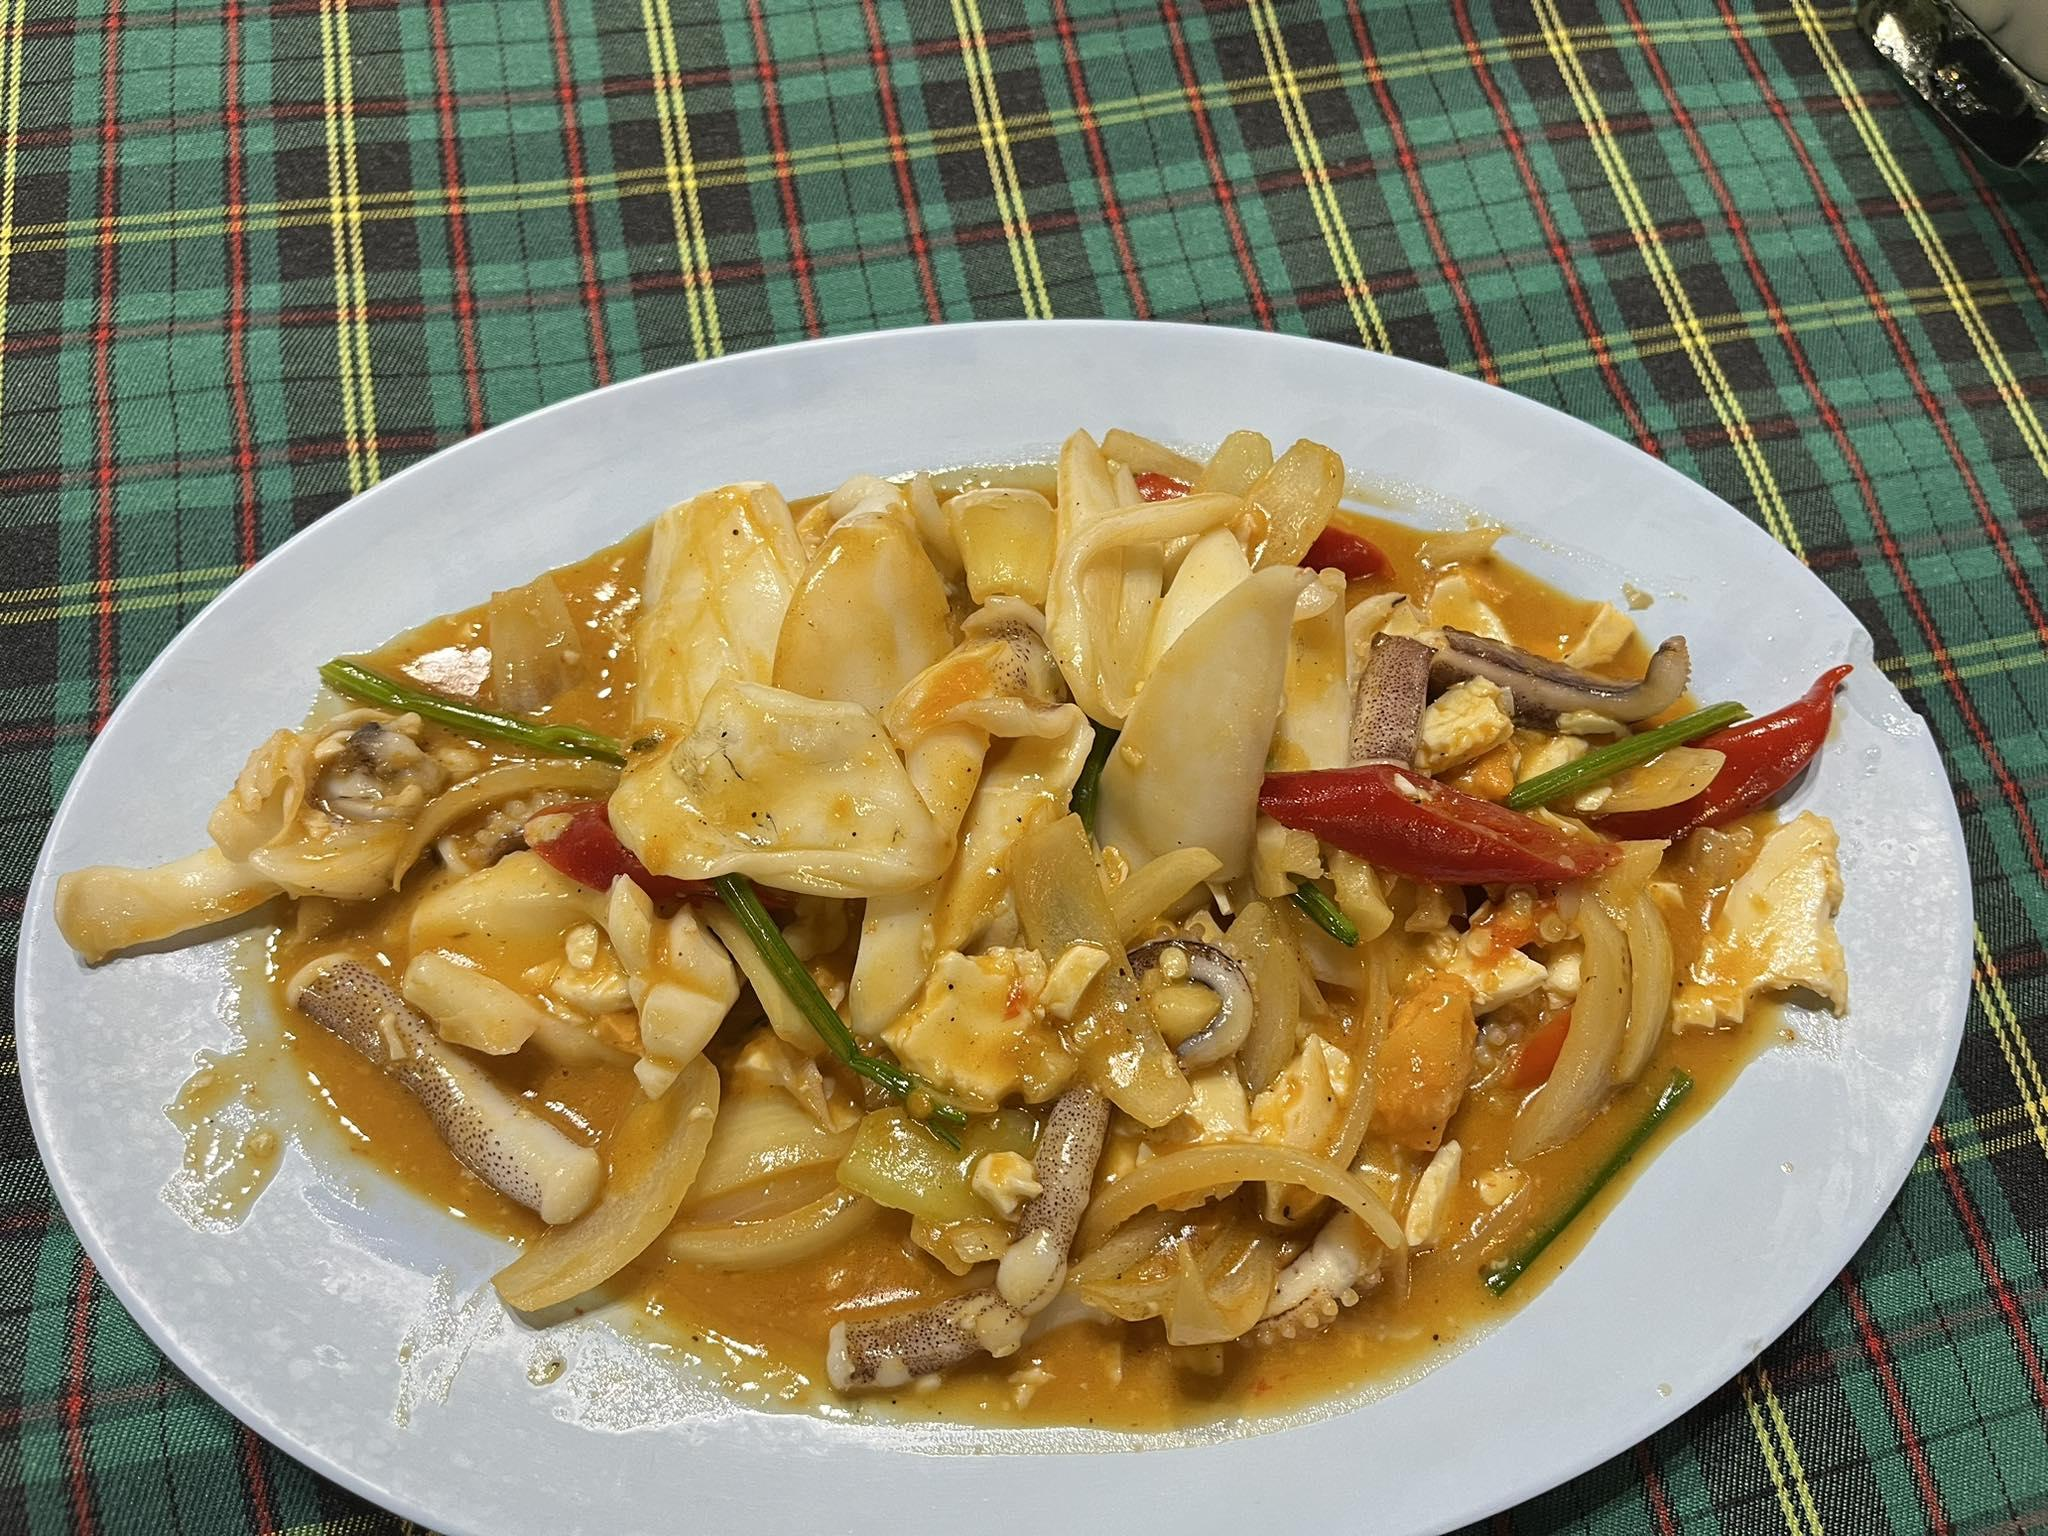meat: (235, 449, 1874, 1421)
vegetable: (1505, 658, 1850, 850), (1255, 755, 1619, 910), (714, 879, 937, 1133), (316, 660, 632, 773)
